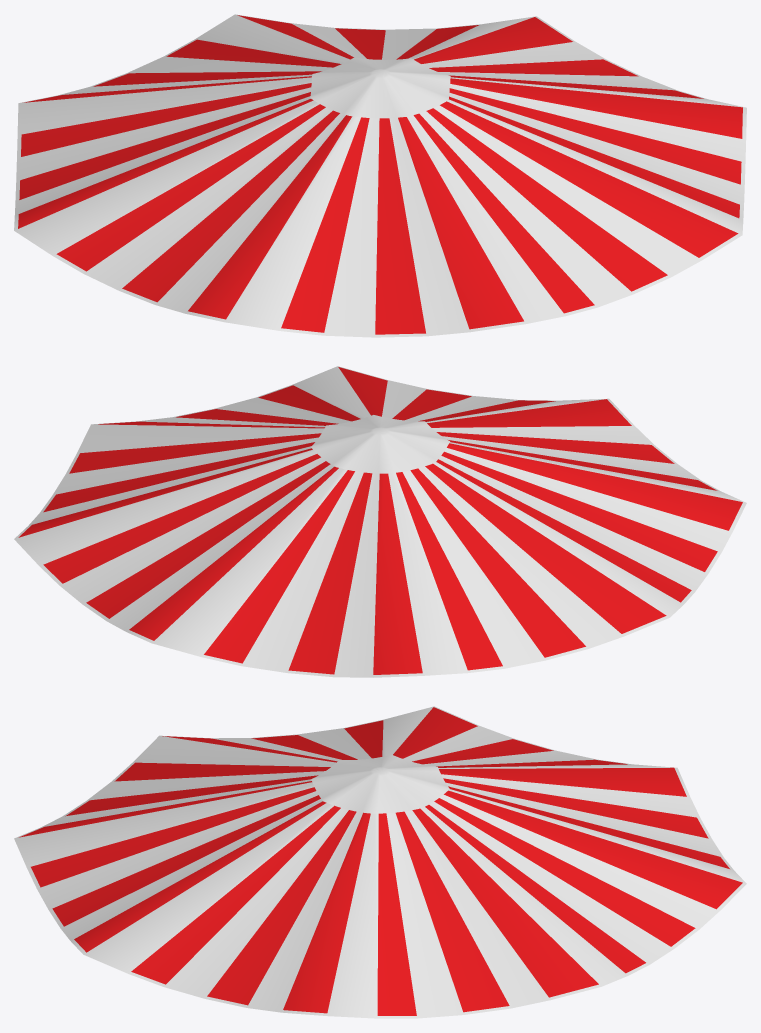
File: toy.fbx
The picture shows the model from 3 angles, top to bottom: view 1: azimuth 30°, elevation 25°; view 2: azimuth 150°, elevation 25°; view 3: azimuth 270°, elevation 25°; orthographic projection. The views are drawn at different scales.
Parts seen in each view (by area): view 1: base_cap; view 2: base_cap; view 3: base_cap.
Part boxes in pixels (x1,y1,x2,y2): base_cap: (14, 14, 746, 337); base_cap: (14, 366, 746, 677); base_cap: (14, 706, 746, 1018).
Bounding box in the file's own units: 87.29 × 13.66 × 87.29.
